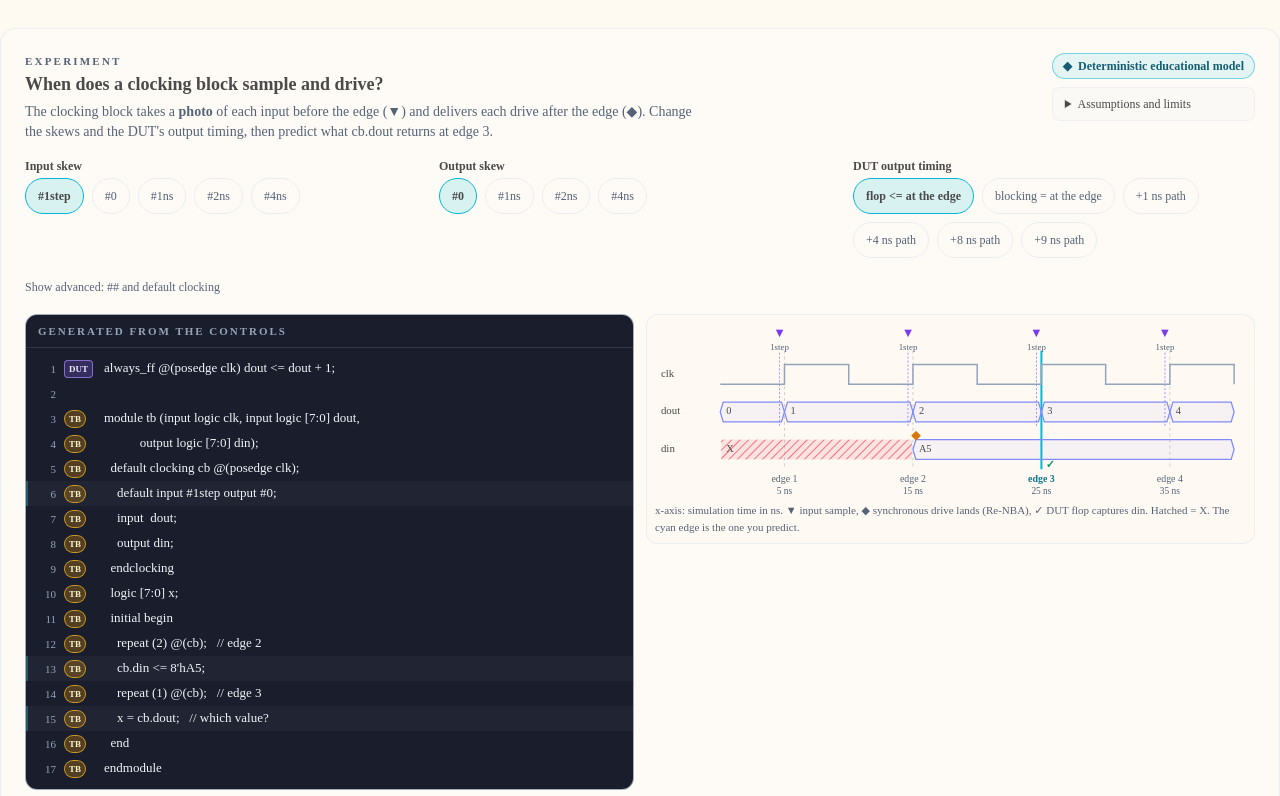
ClockingBlockSkewVisualizer › a #2ns input skew misses a +9 ns path and returns the stale value
The image size is (1280, 796).
Step 1. Click the radio button labelled "#2ns" below "Input skew" → click(219, 196), box top-left (194, 178), bottom-right (243, 214)
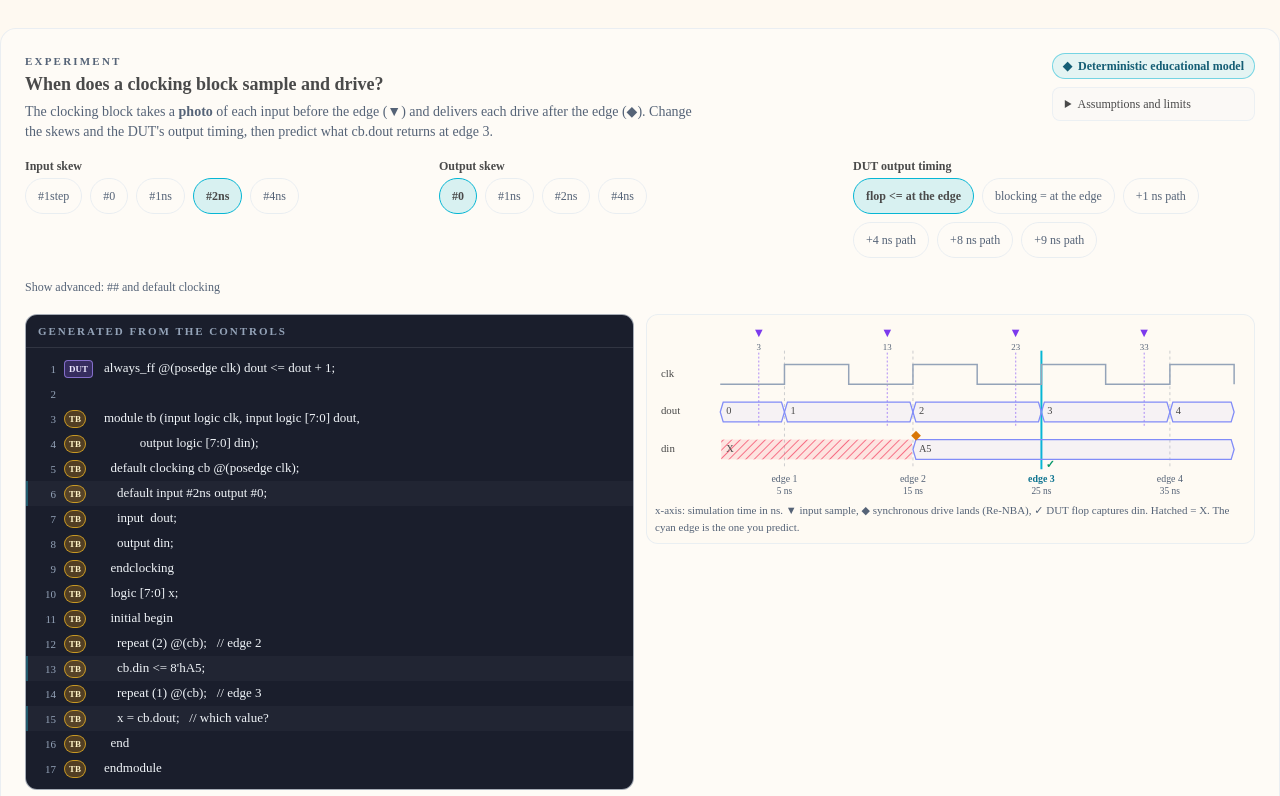
Step 2. Click the radio button labelled "+9 ns path" → click(1059, 240), box top-left (1021, 222), bottom-right (1097, 258)
(page scrolled)
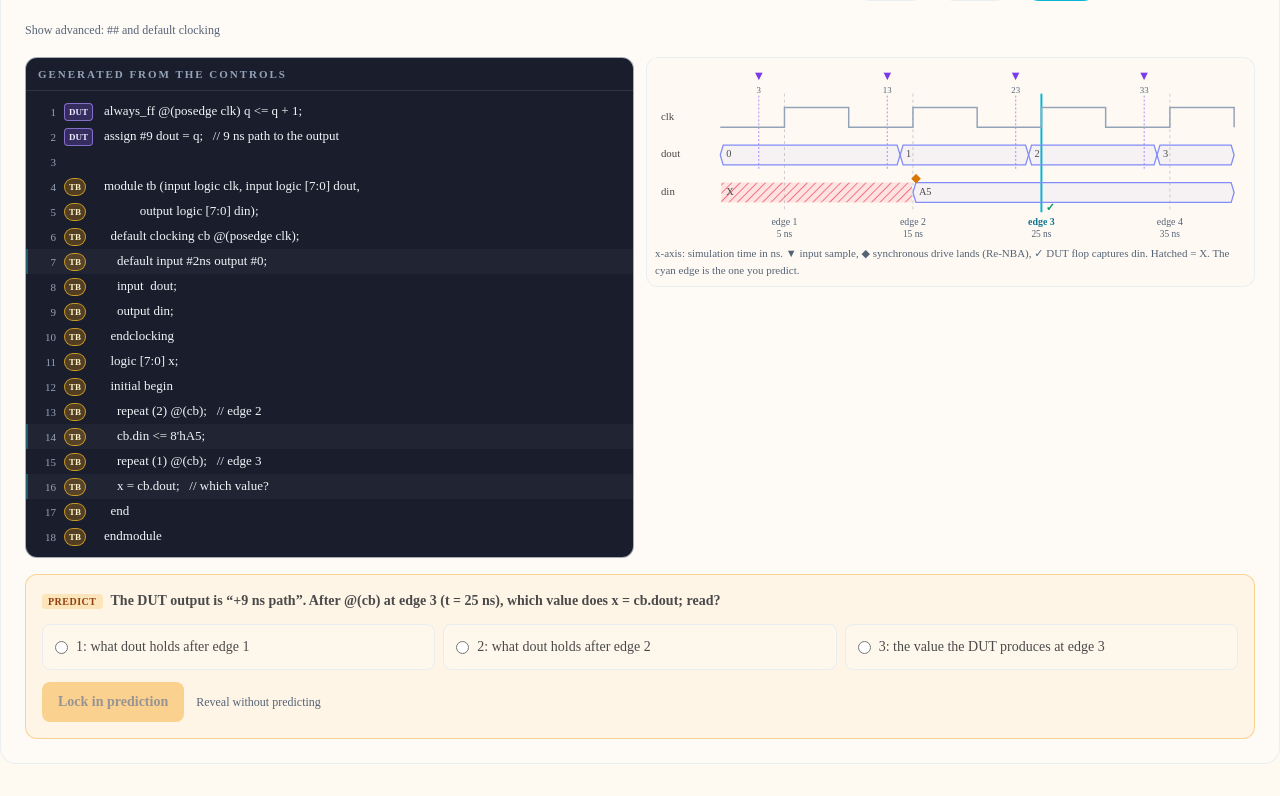
Step 3. Click the radio button labelled "1: what dout holds after edge 1" → click(62, 648), box top-left (55, 641), bottom-right (68, 654)
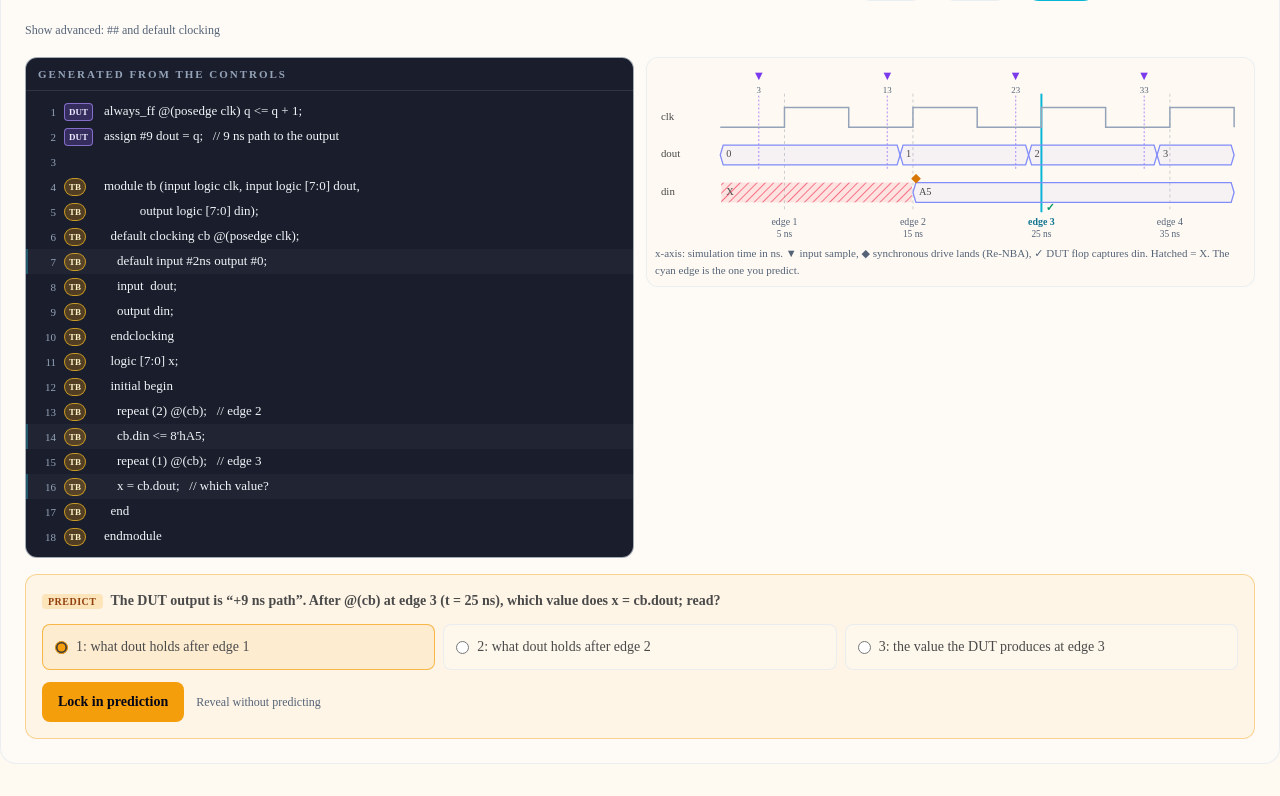
Step 4. Click the button "Lock in prediction" → click(113, 702), box top-left (42, 682), bottom-right (184, 722)
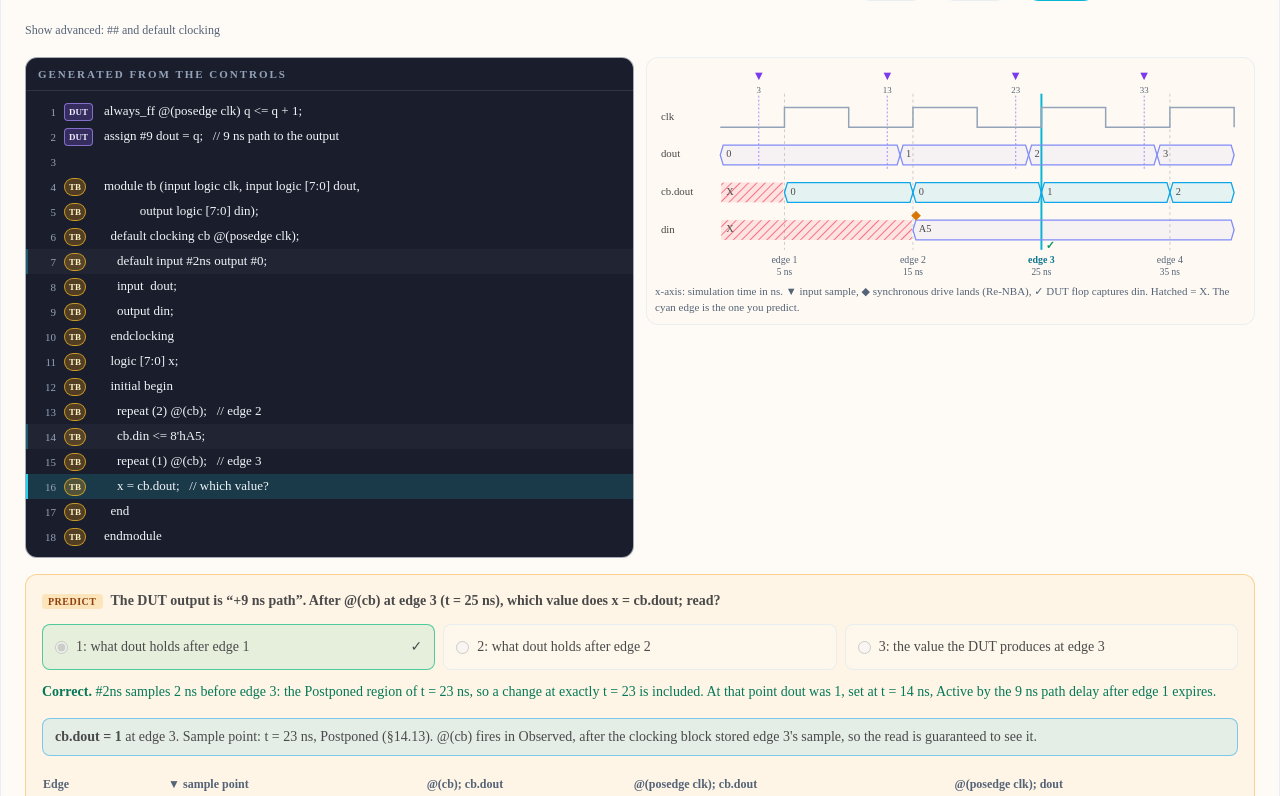
Check: the text "Correct." is shown, box top-left (42, 684), bottom-right (95, 699)
Check: the text "cb.dout = 1" is shown, box top-left (55, 729), bottom-right (122, 744)
